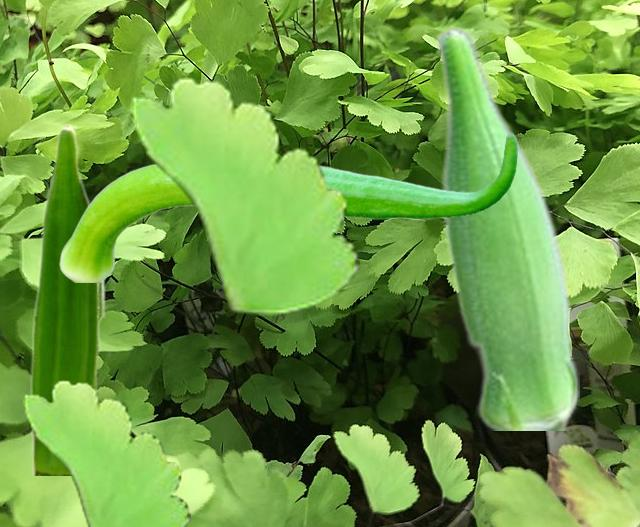okra: (59, 132, 517, 281), (434, 26, 578, 429), (30, 123, 105, 474)
